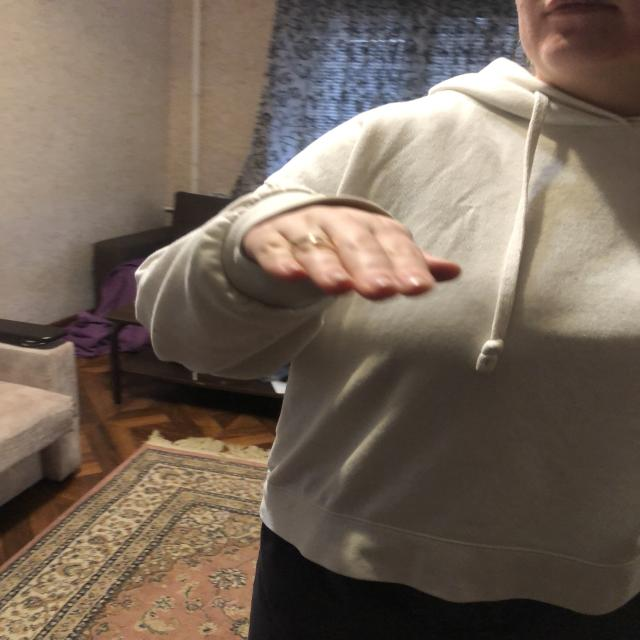paper: (260, 219, 464, 296)
